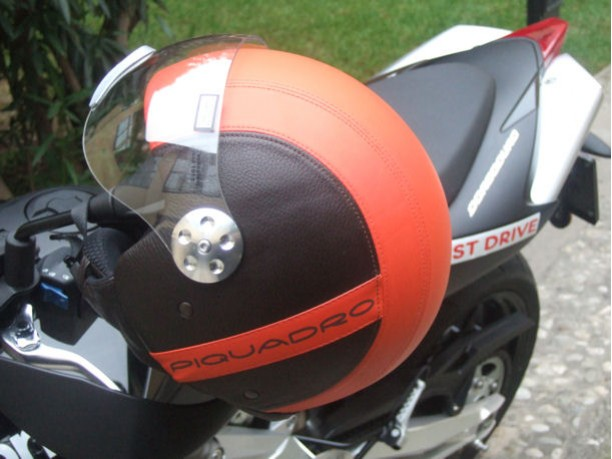helmet: (99, 42, 450, 410)
